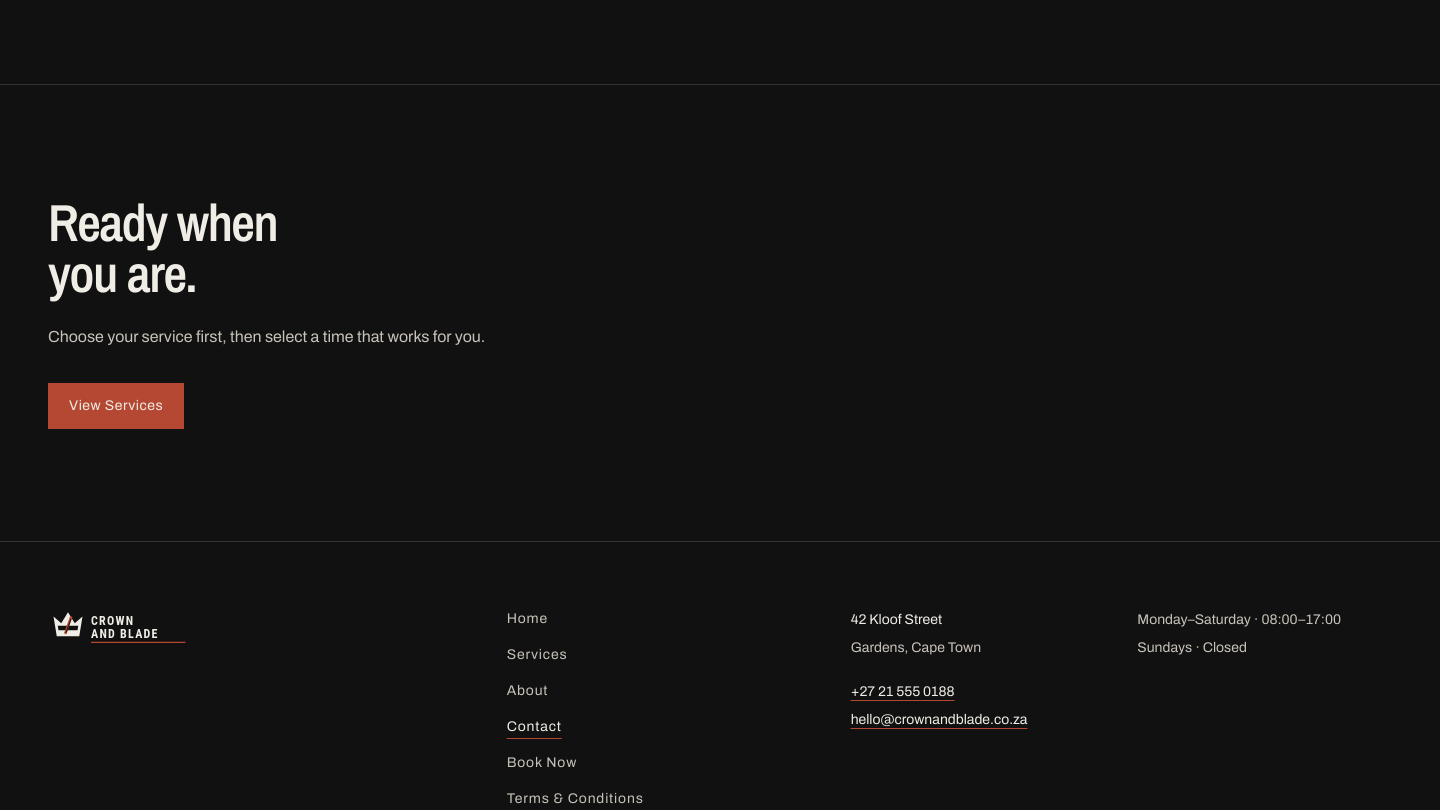
Test: contact page › sends View Services to the services page without a booking dialog
(page scrolled)
Click the link "View Services": (116,406) [48, 383, 184, 429]
(page scrolled)
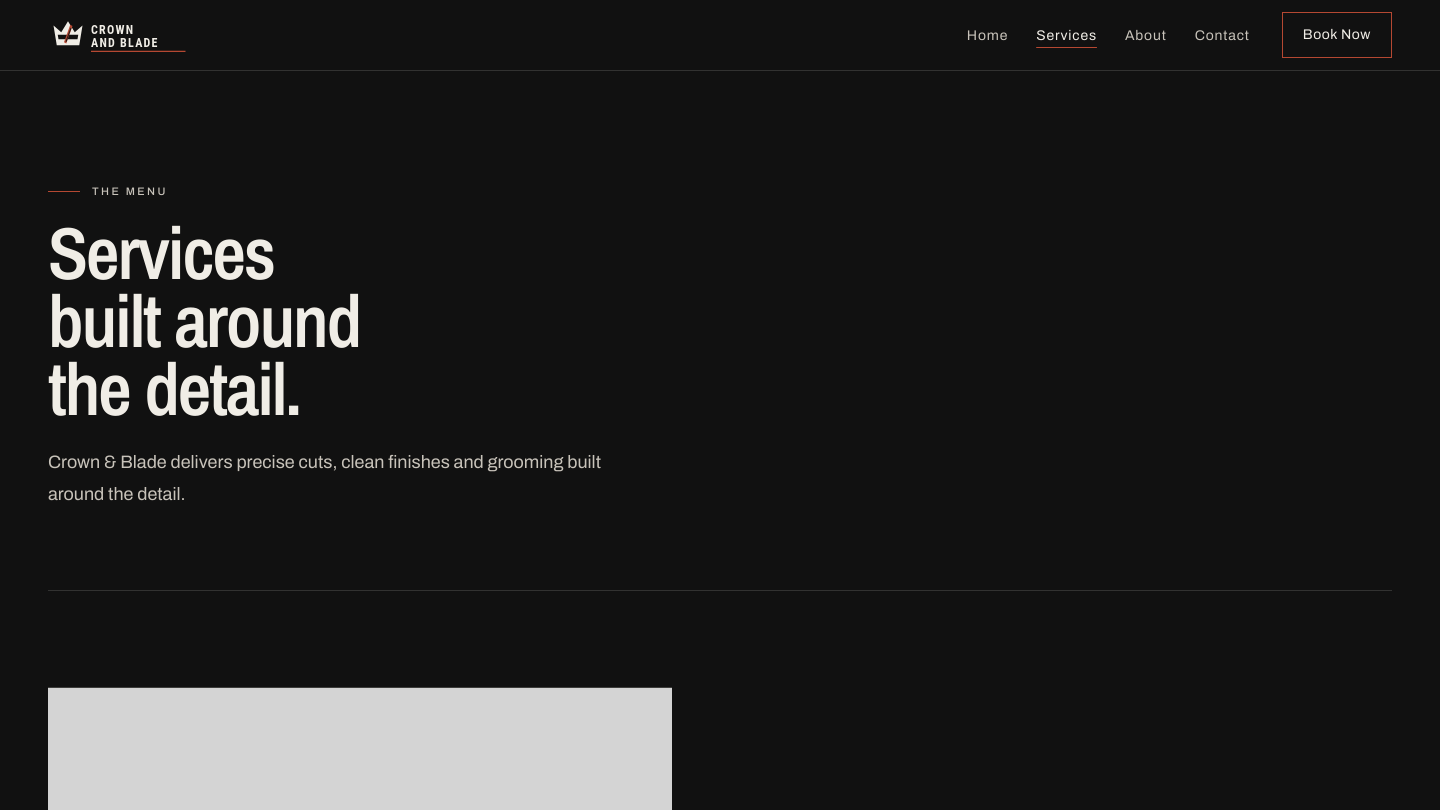
Expected: the heading "Services built around the detail." is shown, [48, 203, 360, 438]
